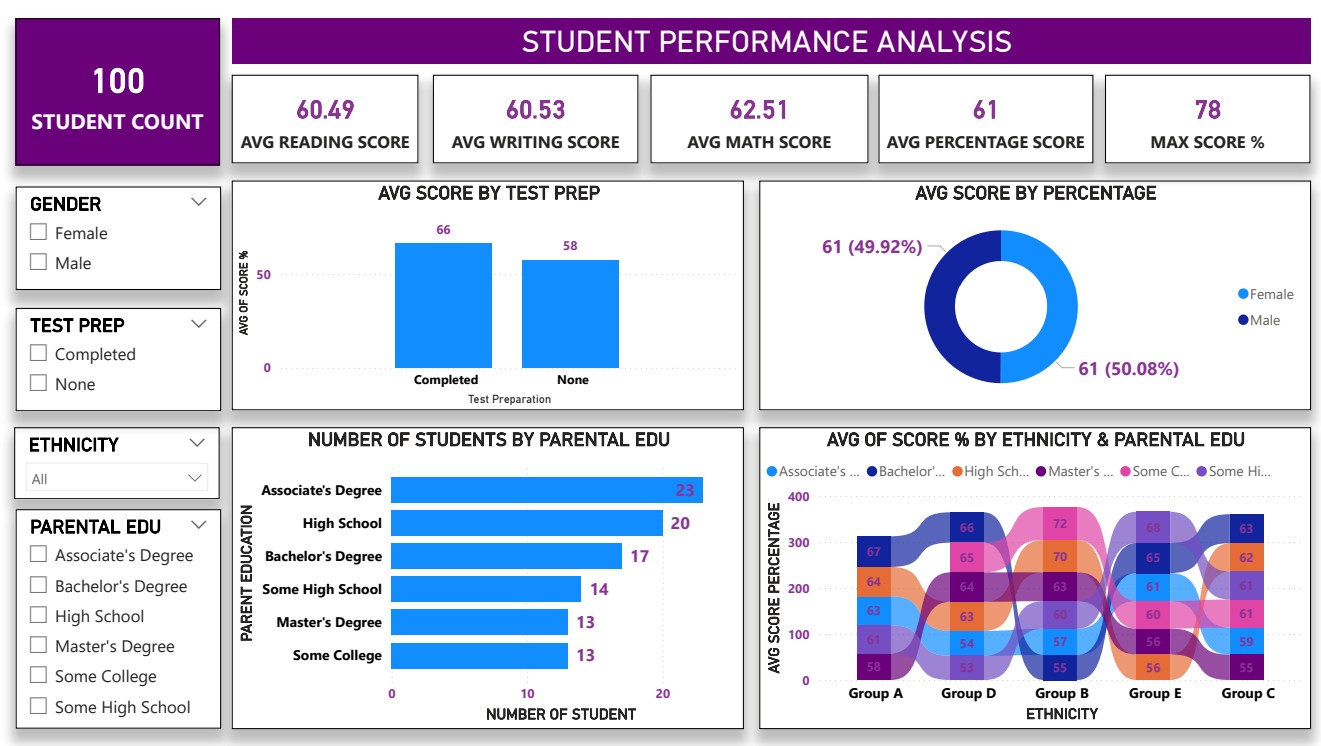

Layout of this report page (visuals, bound fields, positions):
{"tool":"powerbi","page":{"name":"Page 1","canvas":[1280,720],"ordinal":0},"visuals":[{"type":"card","title":"STUDENT COUNT","fields":{"Values":["CountNonNull(Sheet1.Student ID)"]},"box":[17.6,13.2,195.6,141.2],"z":0},{"type":"card","fields":{"Values":["Avg(Sheet1.Math Score)"]},"box":[625,67.6,208.8,85.3],"z":1000},{"type":"card","fields":{"Values":["Avg(Sheet1.Reading Score)"]},"box":[225,67.6,179.4,85.3],"z":2000},{"type":"card","fields":{"Values":["Avg(Sheet1.Writing Score)"]},"box":[417.6,67.6,197.1,85.3],"z":3000},{"type":"card","fields":{"Values":["Avg(Sheet1.Score_percentage)"]},"box":[844.1,67.6,205.9,85.3],"z":4000},{"type":"clusteredColumnChart","title":"AVG SCORE BY TEST PREP","fields":{"Category":["Sheet1.Test Preparation"],"Y":["Avg(Sheet1.Score_percentage)"]},"box":[224.3,168.6,491.4,221.4],"z":5000},{"type":"donutChart","title":"AVG SCORE BY PERCENTAGE","fields":{"Category":["Sheet1.Gender"],"Y":["Avg(Sheet1.Score_percentage)"]},"box":[730,168.6,528.6,221.4],"z":6000},{"type":"clusteredBarChart","title":"NUMBER OF STUDENTS BY PARENTAL EDU","fields":{"Category":["Sheet1.Parental Education"],"Y":["CountNonNull(Sheet1.Score_percentage)"]},"box":[224.3,405.7,491.4,288.6],"z":7000},{"type":"ribbonChart","title":"AVG OF SCORE % BY ETHNICITY & PARENTAL EDU","fields":{"Category":["Sheet1.Ethnicity"],"Y":["Avg(Sheet1.Score_percentage)"],"Series":["Sheet1.Parental Education"]},"box":[730,405.7,528.6,288.6],"z":8000},{"type":"slicer","fields":{"Values":["Sheet1.Ethnicity"]},"box":[15.7,405.7,197.1,68.6],"z":9000},{"type":"slicer","fields":{"Values":["Sheet1.Gender"]},"box":[17.1,174.3,197.1,100],"z":10000},{"type":"slicer","fields":{"Values":["Sheet1.Test Preparation"]},"box":[17.1,291.4,197.1,98.6],"z":11000},{"type":"slicer","fields":{"Values":["Sheet1.Parental Education"]},"box":[17.1,484.3,197.1,210],"z":12000},{"type":"textbox","box":[225,13.2,1033.8,44.1],"z":13000},{"type":"card","fields":{"Values":["Max(Sheet1.Score_percentage)"]},"box":[1061.8,67.6,197.1,85.3],"z":14000}]}

Visuals, with their boxes in screenshot pixels (x1, y1, x2, y2), scaled from the page's 1280x720 canvas onto the 1321x746 screenshot:
"STUDENT COUNT" card: x1=18 y1=14 x2=220 y2=160
card - Avg(Sheet1.Math Score): x1=645 y1=70 x2=861 y2=158
card - Avg(Sheet1.Reading Score): x1=232 y1=70 x2=417 y2=158
card - Avg(Sheet1.Writing Score): x1=431 y1=70 x2=634 y2=158
card - Avg(Sheet1.Score_percentage): x1=871 y1=70 x2=1084 y2=158
"AVG SCORE BY TEST PREP" clusteredColumnChart: x1=231 y1=175 x2=739 y2=404
"AVG SCORE BY PERCENTAGE" donutChart: x1=753 y1=175 x2=1299 y2=404
"NUMBER OF STUDENTS BY PARENTAL EDU" clusteredBarChart: x1=231 y1=420 x2=739 y2=719
"AVG OF SCORE % BY ETHNICITY & PARENTAL EDU" ribbonChart: x1=753 y1=420 x2=1299 y2=719
slicer - Sheet1.Ethnicity: x1=16 y1=420 x2=220 y2=491
slicer - Sheet1.Gender: x1=18 y1=181 x2=221 y2=284
slicer - Sheet1.Test Preparation: x1=18 y1=302 x2=221 y2=404
slicer - Sheet1.Parental Education: x1=18 y1=502 x2=221 y2=719
textbox: x1=232 y1=14 x2=1299 y2=59
card - Max(Sheet1.Score_percentage): x1=1096 y1=70 x2=1299 y2=158
